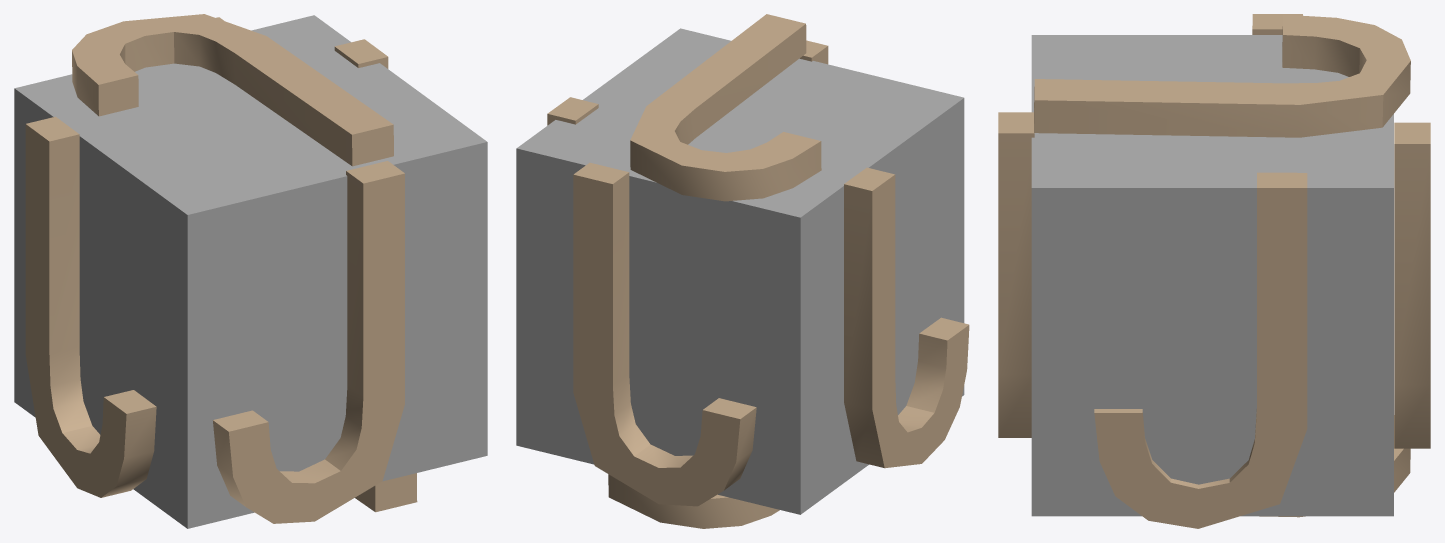
File: LetterJ.fbx
3 renders of one model, left to right at view 1: azimuth 30°, elevation 25°; view 2: azimuth 150°, elevation 25°; view 3: azimuth 270°, elevation 25°, orthographic. The views are drawn at different scales.
Visible parts, largest first — view 1: Box, Text Front, Text Left, Text Top, Text Bottom, Text Right; view 2: Box, Text Back, Text Left, Text Top, Text Bottom, Text Right; view 3: Box, Text Top, Text Right, Text Back, Text Front, Text Left, Text Bottom.
Part boxes in pixels (x1,y1,x2,y2): Box: (14,15,487,528); Text Front: (213,161,404,523); Text Left: (25,116,156,497); Text Top: (72,14,393,166); Text Bottom: (355,473,417,512); Text Right: (334,39,388,68); Box: (516,28,964,514); Text Back: (573,162,756,506); Text Left: (844,167,969,468); Text Top: (630,14,821,201); Text Bottom: (608,474,779,528); Text Right: (547,97,598,125); Box: (1031,35,1393,516); Text Top: (1034,14,1410,137); Text Right: (1094,172,1307,528); Text Back: (1394,122,1430,448); Text Front: (998,112,1034,437); Text Left: (1252,14,1302,34); Text Bottom: (1259,415,1410,517).
Bounding box in the file's own units: 1.14 × 1.24 × 1.19.
